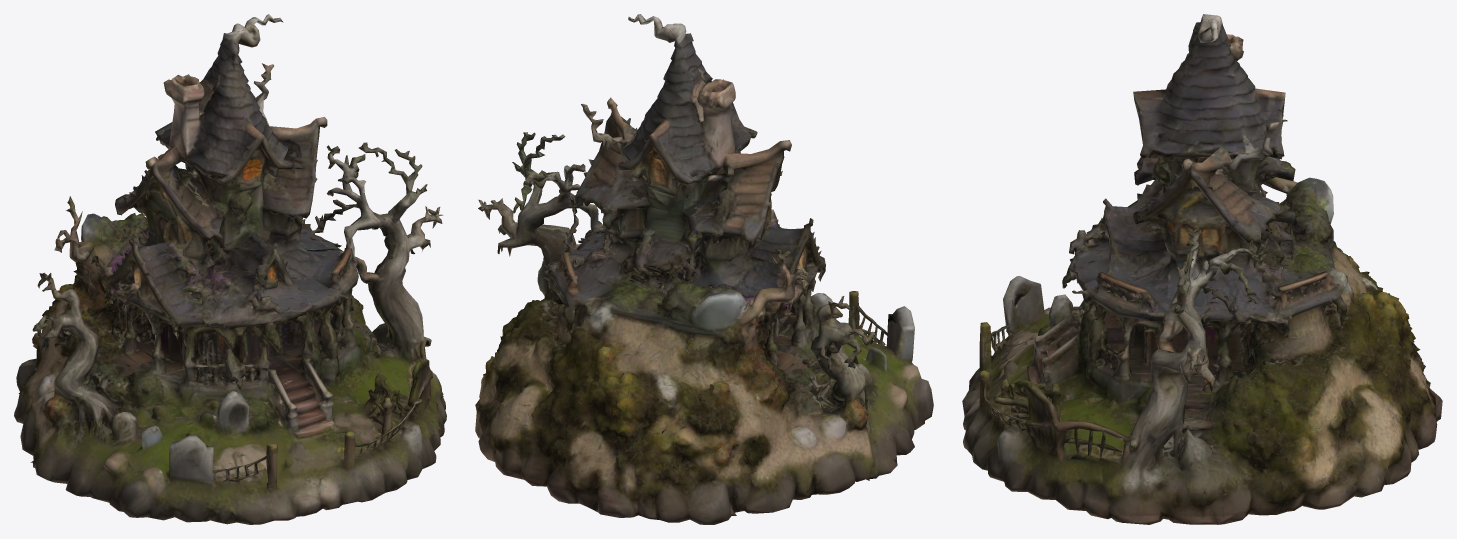
Rendered from house-highl.glb.
The picture shows the model from 3 angles, left to right: view 1: azimuth 30°, elevation 25°; view 2: azimuth 150°, elevation 25°; view 3: azimuth 270°, elevation 25°; orthographic projection. The views are drawn at different scales.
Visible parts, largest first — view 1: Mesh1.0; view 2: Mesh1.0; view 3: Mesh1.0.
Part boxes in pixels (x1=…): Mesh1.0: x1=14, y1=14, x2=446, y2=524; Mesh1.0: x1=475, y1=14, x2=933, y2=524; Mesh1.0: x1=962, y1=14, x2=1442, y2=524.
Bounding box in the file's own units: 1.82 × 1.71 × 1.74.
Materials: 1 (1 with a texture image).
